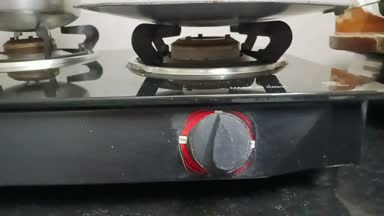noflame_gason: (128, 25, 306, 179)
